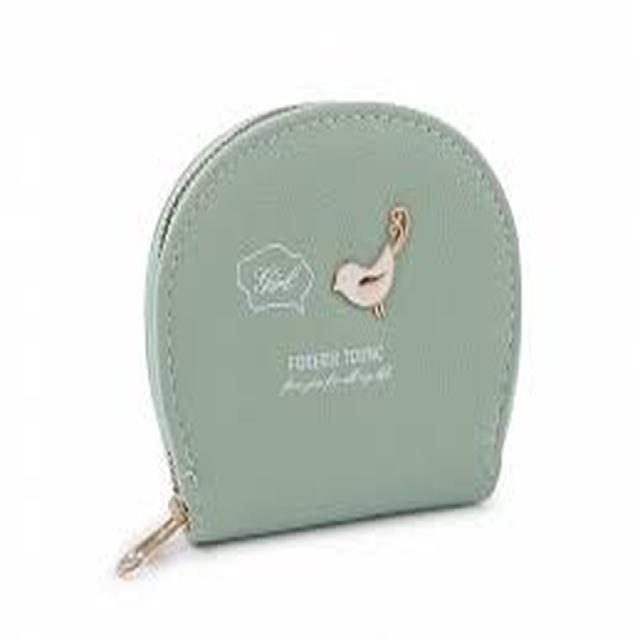wallet: (138, 84, 544, 557)
